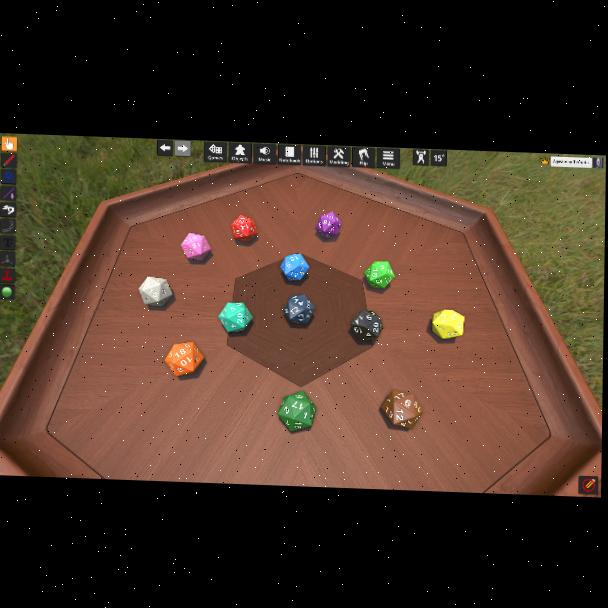d20: (278, 391, 316, 431), (380, 390, 416, 430), (166, 341, 204, 377), (139, 275, 173, 309), (217, 302, 252, 334), (430, 309, 463, 340), (283, 295, 314, 326), (350, 308, 379, 339), (364, 261, 394, 290), (280, 252, 309, 282), (181, 233, 210, 262), (231, 215, 258, 244), (315, 211, 341, 239)
